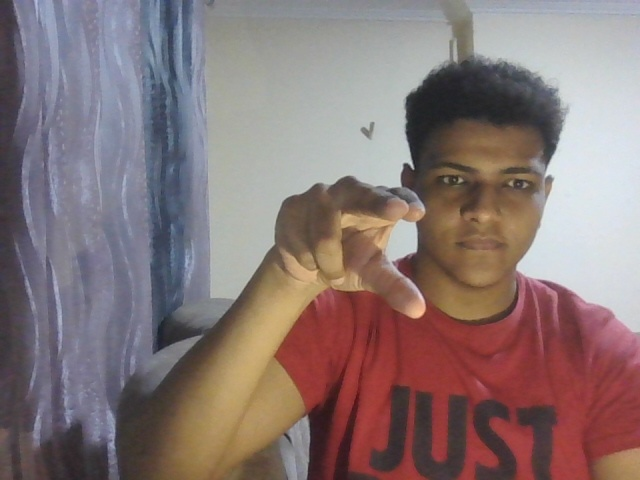no: (263, 161, 443, 340)
